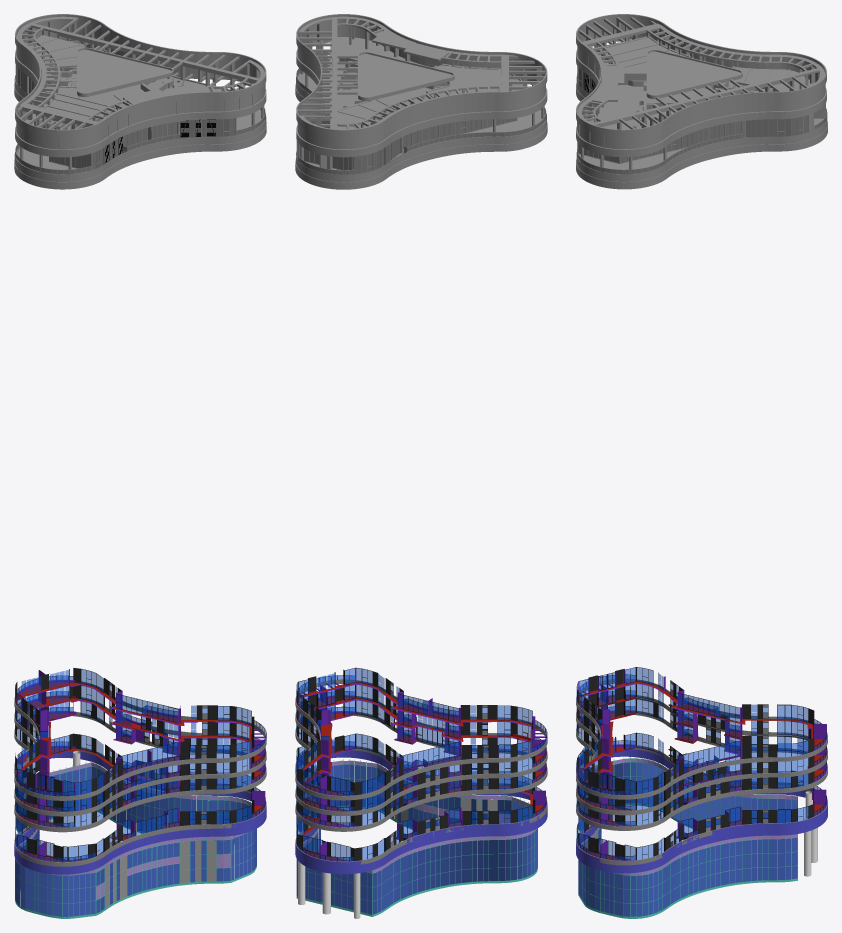
Rendered from Gindi_Main_Building_js_empty.fbx.
3 views of the same model, side by side, from view 1: azimuth 30°, elevation 25°; view 2: azimuth 150°, elevation 25°; view 3: azimuth 270°, elevation 25° (orthographic).
Visible parts, largest first — view 1: wall_roof, Glass, panel_roof, Windows, Decoration, glass_roof, APT_21-43_Int_5P_001, Wentilation, APT_21-43_Int_5P, floor_roof, wire, Glass_det (+31 smaller); view 2: wall_roof, Glass, panel_roof, Decoration, glass_roof, Windows, floor_roof, APT_21-43_Int_5P_001, APT_21-43_Int_5R_001, wire, APT_21-43_Int_5P, Wentilation (+30 smaller); view 3: wall_roof, Glass, panel_roof, Decoration, glass_roof, Windows, floor_roof, APT_21-43_Int_5P, APT_21-43_Int_5R, APT_21-43_Int_5P_001, wire, APT_5-7_Int_4Re_001 (+29 smaller).
Boxes of the visible parts, <box> form: wall_roof: <box>14,14,266,189</box>; Glass: <box>15,766,256,916</box>; panel_roof: <box>14,21,266,181</box>; Windows: <box>15,761,255,916</box>; Decoration: <box>14,751,266,874</box>; glass_roof: <box>15,43,265,174</box>; APT_21-43_Int_5P_001: <box>14,746,107,800</box>; Wentilation: <box>15,762,251,899</box>; APT_21-43_Int_5P: <box>198,705,266,762</box>; floor_roof: <box>15,45,264,174</box>; wire: <box>36,35,124,120</box>; Glass_det: <box>105,840,216,908</box>; wall_roof: <box>295,14,547,189</box>; Glass: <box>296,764,537,914</box>; panel_roof: <box>296,21,546,182</box>; Decoration: <box>295,750,547,874</box>; glass_roof: <box>296,68,546,174</box>; Windows: <box>297,759,536,914</box>; floor_roof: <box>296,36,545,174</box>; APT_21-43_Int_5P_001: <box>478,705,547,762</box>; APT_21-43_Int_5R_001: <box>319,753,418,800</box>; wire: <box>337,65,498,129</box>; APT_21-43_Int_5P: <box>295,667,384,721</box>; Wentilation: <box>303,760,536,873</box>; wall_roof: <box>576,14,827,189</box>; Glass: <box>578,762,797,916</box>; panel_roof: <box>576,21,827,181</box>; Decoration: <box>576,749,827,873</box>; glass_roof: <box>577,67,827,174</box>; Windows: <box>578,757,797,916</box>; floor_roof: <box>577,41,824,174</box>; APT_21-43_Int_5P: <box>576,751,677,799</box>; APT_21-43_Int_5R: <box>725,724,827,765</box>; APT_21-43_Int_5P_001: <box>576,667,676,715</box>; wire: <box>601,37,805,85</box>; APT_5-7_Int_4Re_001: <box>600,824,687,865</box>.
Size of the model in its own units: 5193 by 16404 by 4741.
